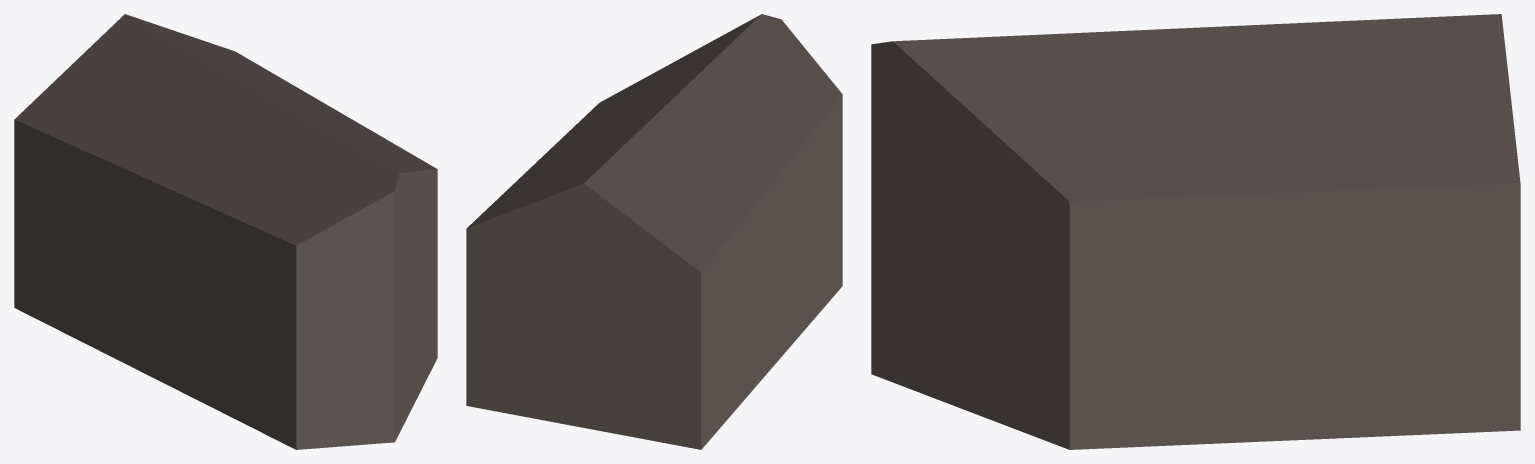
The picture shows the model from 3 angles, left to right: view 1: azimuth 30°, elevation 25°; view 2: azimuth 150°, elevation 25°; view 3: azimuth 270°, elevation 25°; orthographic projection. The views are drawn at different scales.
Parts seen in each view (by area): view 1: HP-w734421246; view 2: HP-w734421246; view 3: HP-w734421246.
Part boxes in pixels (left/top/right/bottom): HP-w734421246: left=14, top=14, right=437, bottom=449; HP-w734421246: left=466, top=14, right=842, bottom=449; HP-w734421246: left=871, top=14, right=1520, bottom=449.
Size of the model in its own units: 8.85 by 8.28 by 14.27.
